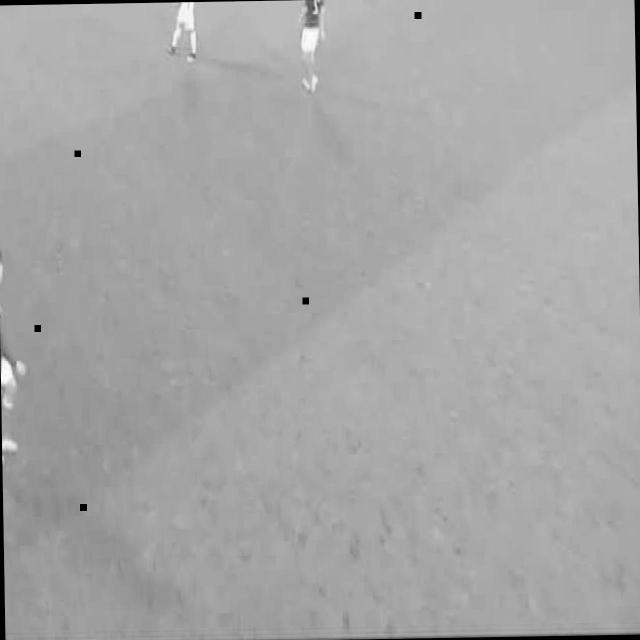player-white: (0, 244, 30, 467), (299, 0, 326, 92), (170, 2, 198, 60)
